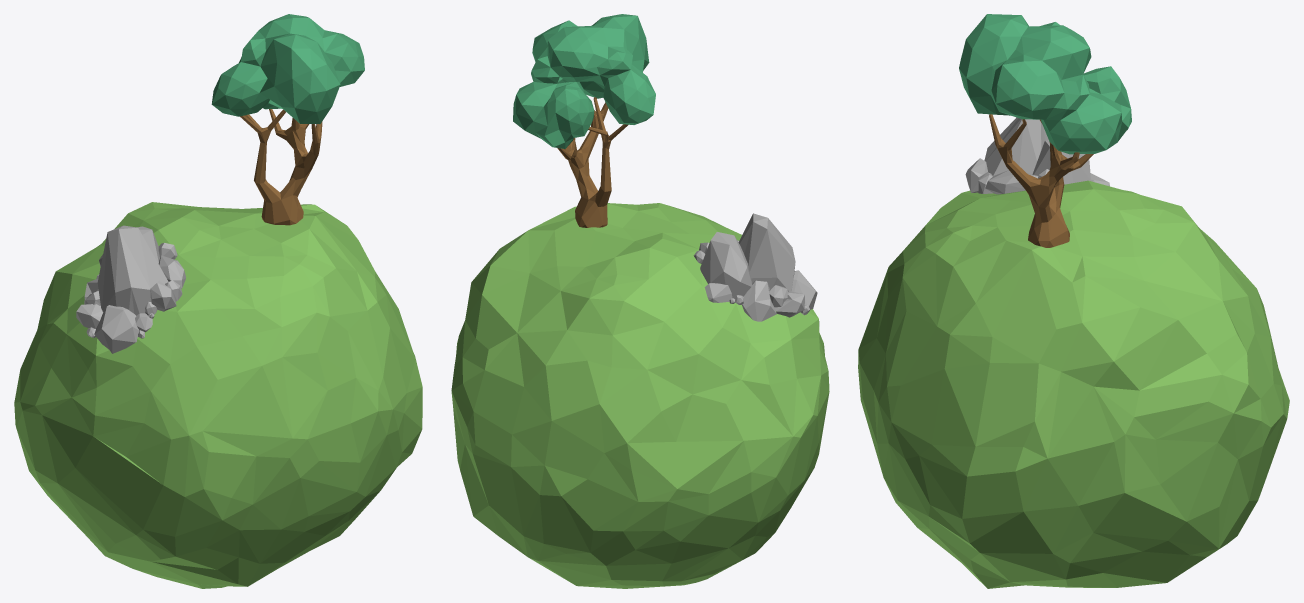
The model's file is MiniPlanet.fbx.
3 views of the same model, side by side, from view 1: azimuth 30°, elevation 25°; view 2: azimuth 150°, elevation 25°; view 3: azimuth 270°, elevation 25° (orthographic). The views are drawn at different scales.
Parts seen in each view (by area): view 1: Planet, Canopy, Rock, Tree; view 2: Planet, Canopy, Rock, Tree; view 3: Planet, Canopy, Rock, Tree.
Part boxes in pixels (<box>): Planet: <box>14,202,422,588</box>; Canopy: <box>211,14,364,124</box>; Rock: <box>76,225,185,353</box>; Tree: <box>240,109,322,225</box>; Planet: <box>451,203,829,588</box>; Canopy: <box>513,14,655,148</box>; Rock: <box>693,213,817,321</box>; Tree: <box>557,97,628,227</box>; Planet: <box>858,180,1289,588</box>; Canopy: <box>959,14,1131,154</box>; Rock: <box>965,117,1109,194</box>; Tree: <box>989,114,1093,247</box>.
Size of the model in its own units: 792 by 1148 by 760.
